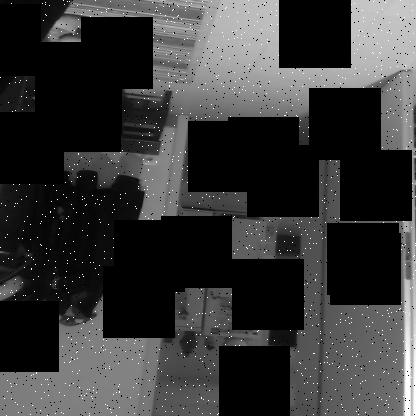Porte: (139, 70, 415, 415)
